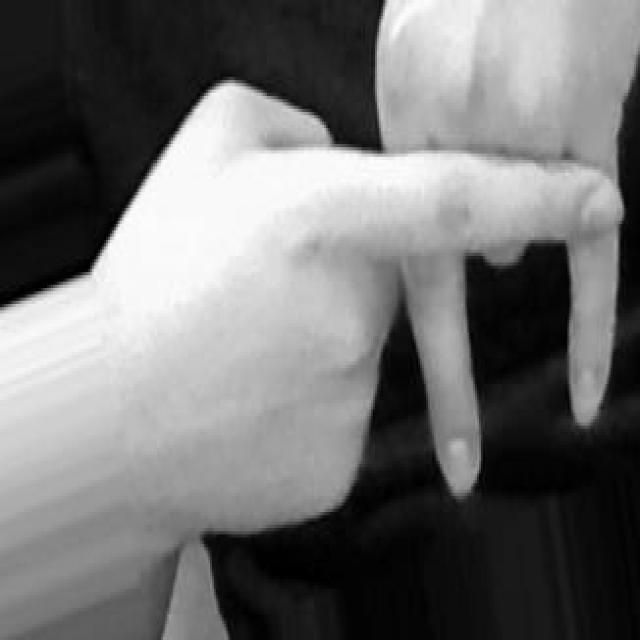H: (97, 2, 640, 597)
